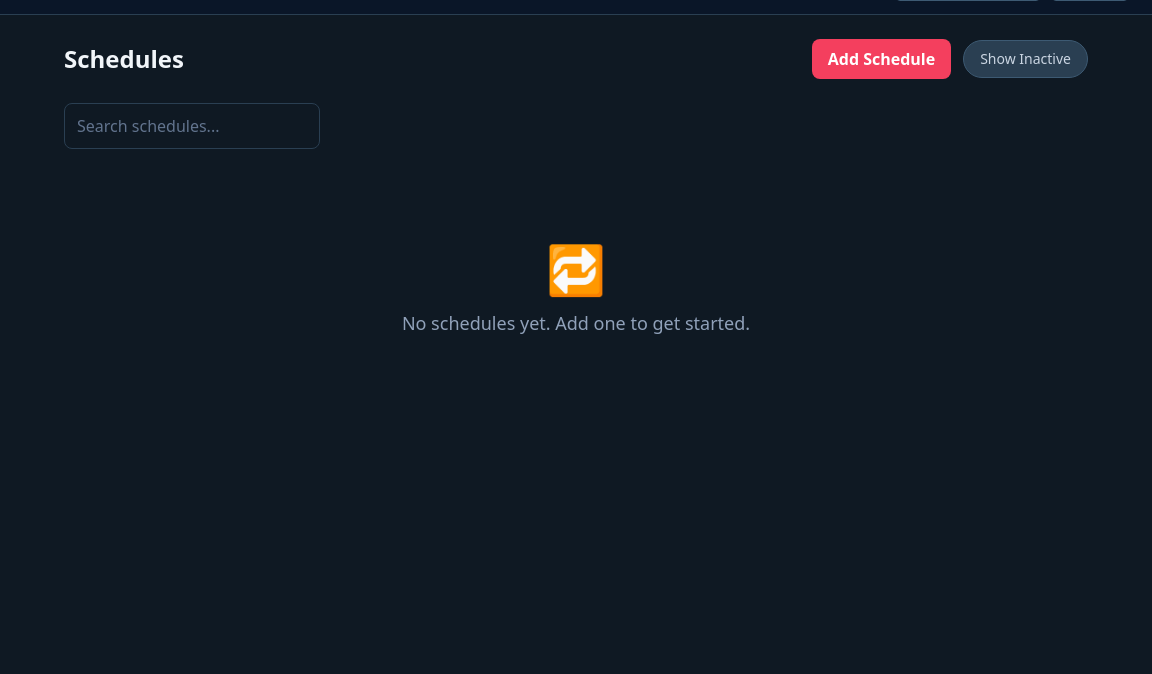
Test: SchedulesPage › shows AddScheduleForm when Add Schedule is clicked
The image size is (1152, 674).
Click the button "Add Schedule": coordinates (881, 59) [812,39,951,79]
(page scrolled)
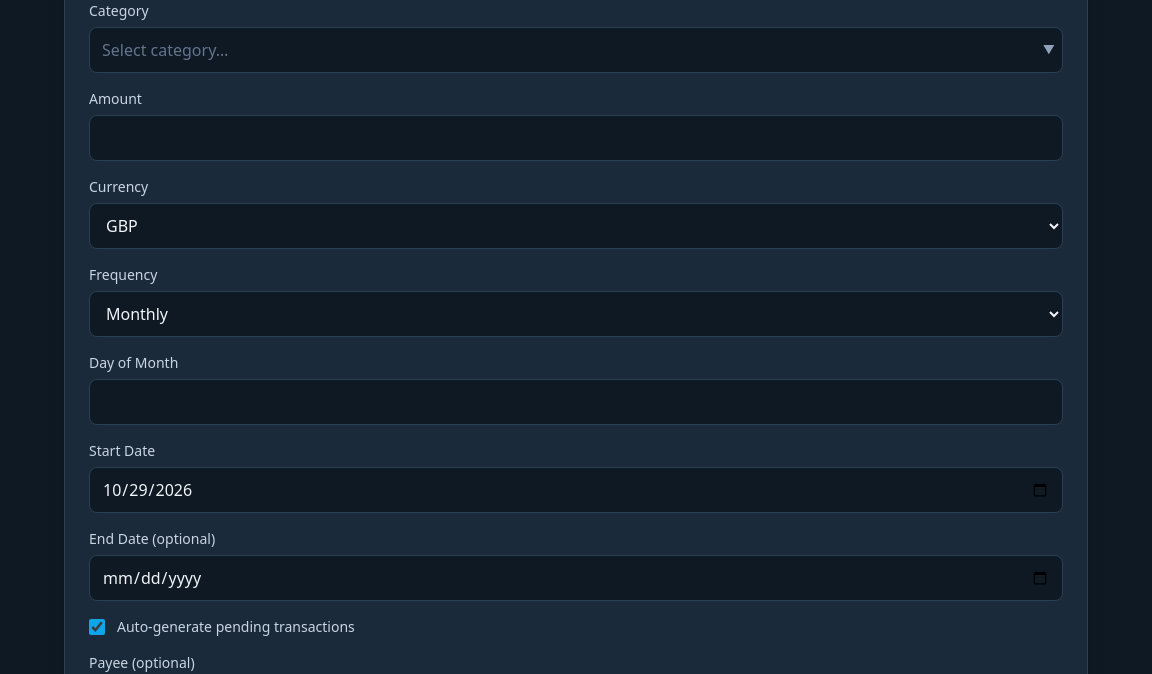
Expected: the dropdown labelled "Frequency" is shown, [89,291,1063,337]
